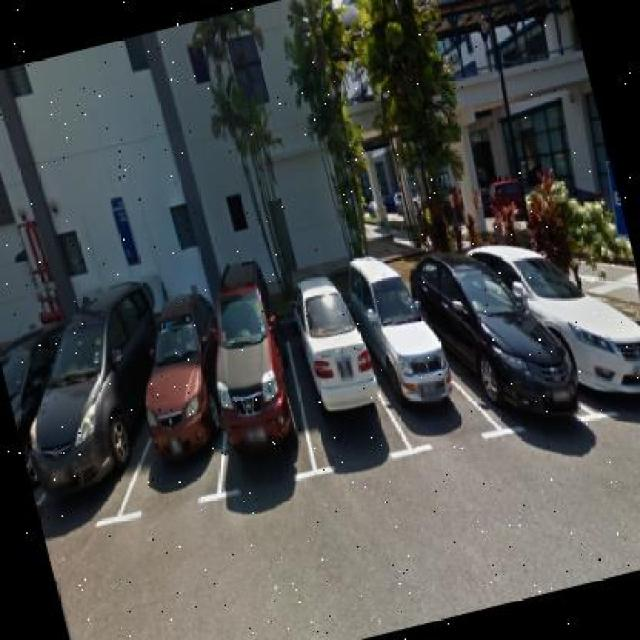Car: (1, 273, 184, 535), (406, 209, 587, 458), (472, 189, 640, 432), (116, 262, 252, 498), (341, 224, 470, 452), (192, 244, 307, 469), (287, 263, 392, 444), (1, 306, 66, 393)
